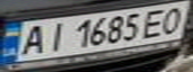1: (69, 17, 93, 48)
5: (121, 10, 148, 43)
6: (90, 15, 112, 47)
8: (106, 12, 130, 45)
A: (12, 22, 51, 56)
E: (136, 7, 172, 38)
I: (39, 19, 69, 53)
O: (157, 3, 193, 35)
